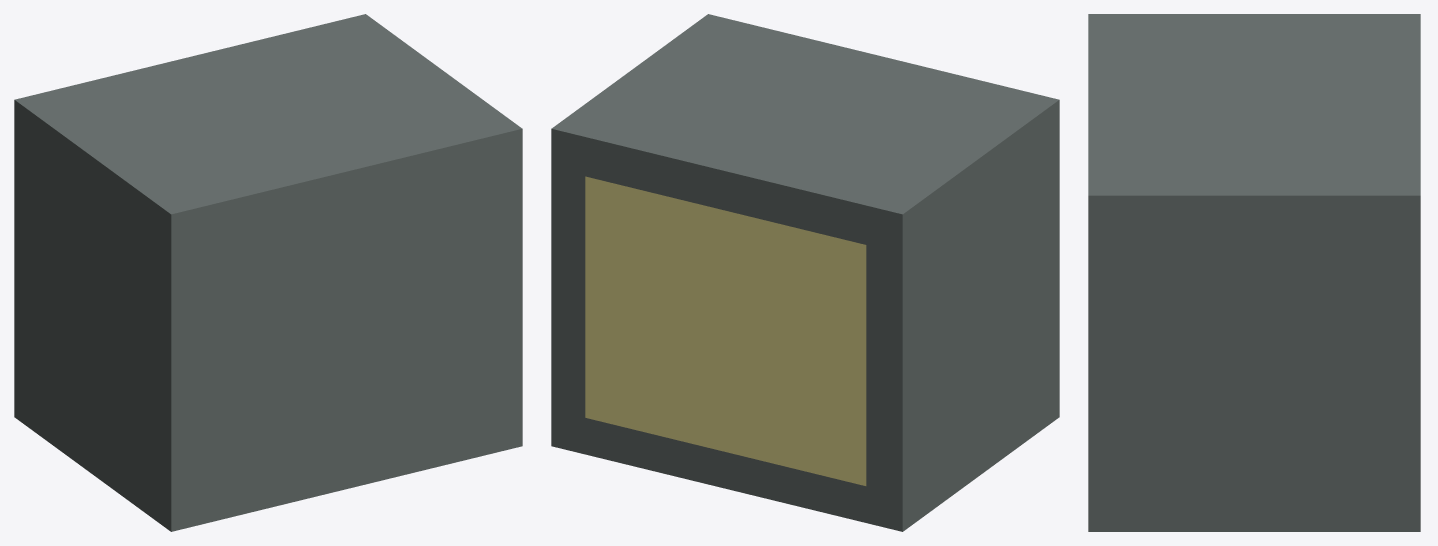
3 views of the same model, side by side, from view 1: azimuth 30°, elevation 25°; view 2: azimuth 150°, elevation 25°; view 3: azimuth 270°, elevation 25° (orthographic). The views are drawn at different scales.
Parts seen in each view (by area): view 1: mount; view 2: mount; view 3: mount.
Boxes of the visible parts, <box> form: mount: <box>14,14,522,531</box>; mount: <box>551,14,1059,531</box>; mount: <box>1088,14,1420,531</box>.
Bounding box in the file's own units: 4.4 × 3.8 × 3.43.
